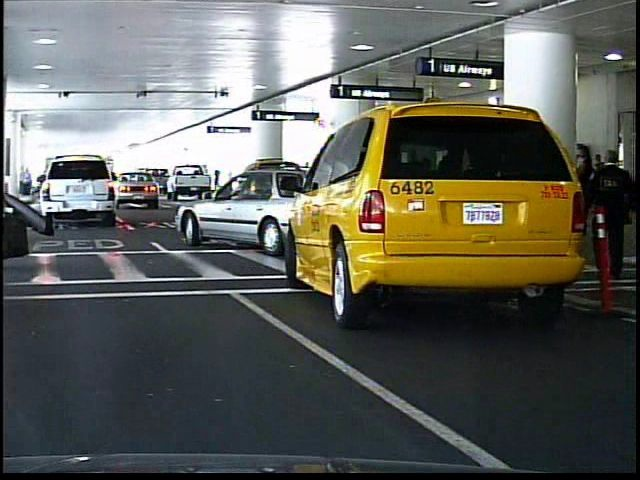person: (588, 148, 633, 282), (564, 139, 601, 273)
